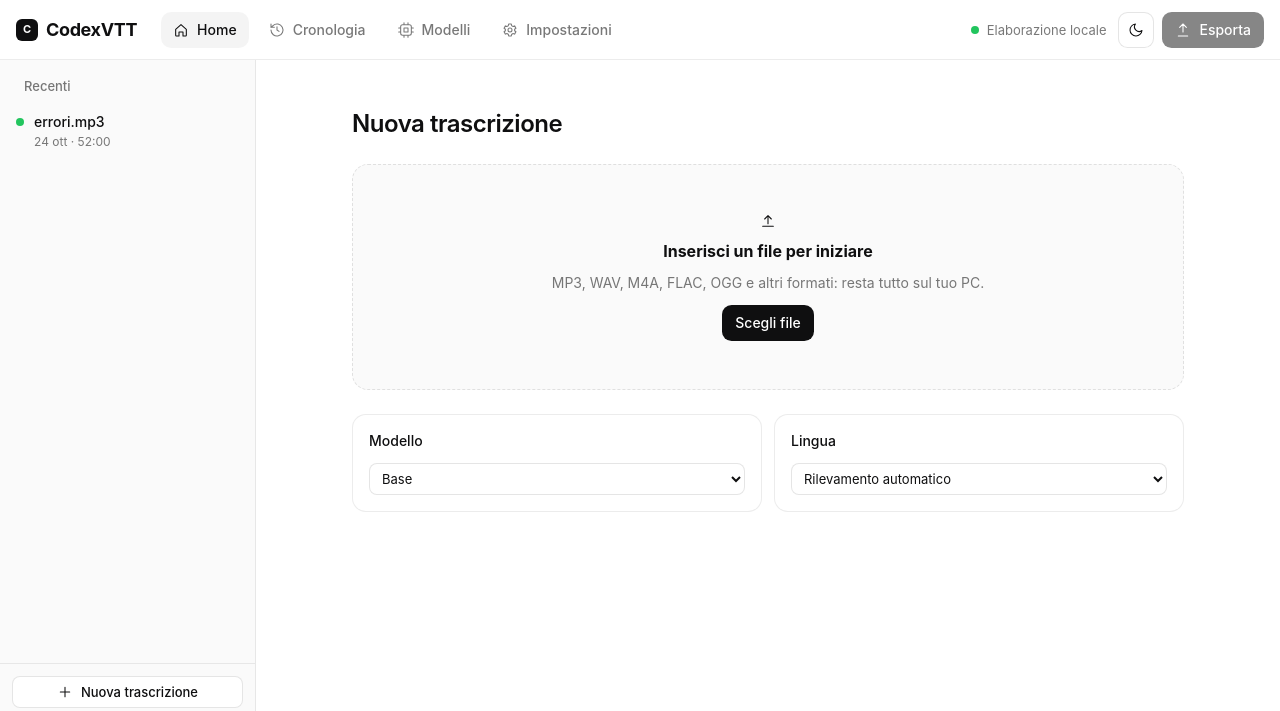
Editor a due pannelli › «Punteggiatura e frasi» riorganizza i segmenti in blocchi più lunghi e si annulla
This screenshot has width=1280, height=711.
Click the button "errori.mp3 24 ott · 52:00".
click(128, 132)  # box [8, 104, 247, 160]
(page scrolled)
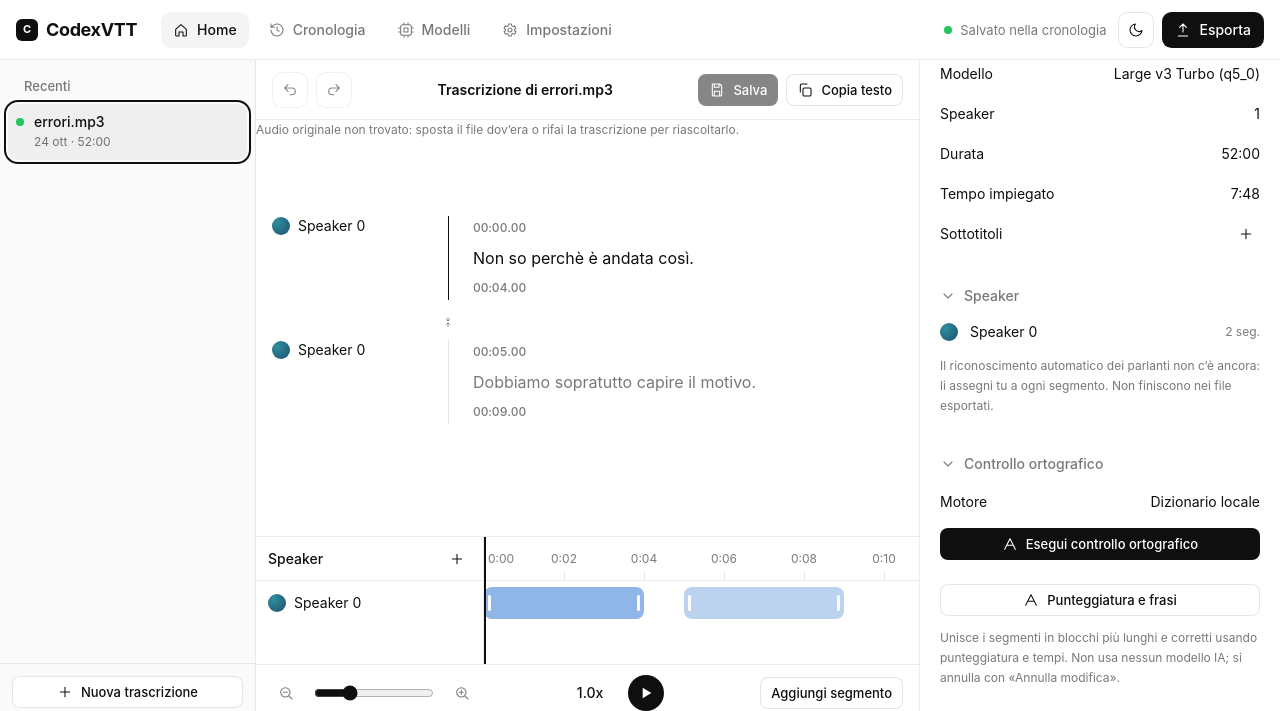
Expected: the heading "Trascrizione di errori.mp3" is shown, [438, 80, 613, 100]
Expected: the number of fields named "Testo del segmento" is 2, [473, 248, 694, 268]; [473, 372, 756, 392]
Click the button "Punteggiatura e frasi".
click(1100, 600)  # box [940, 584, 1260, 616]
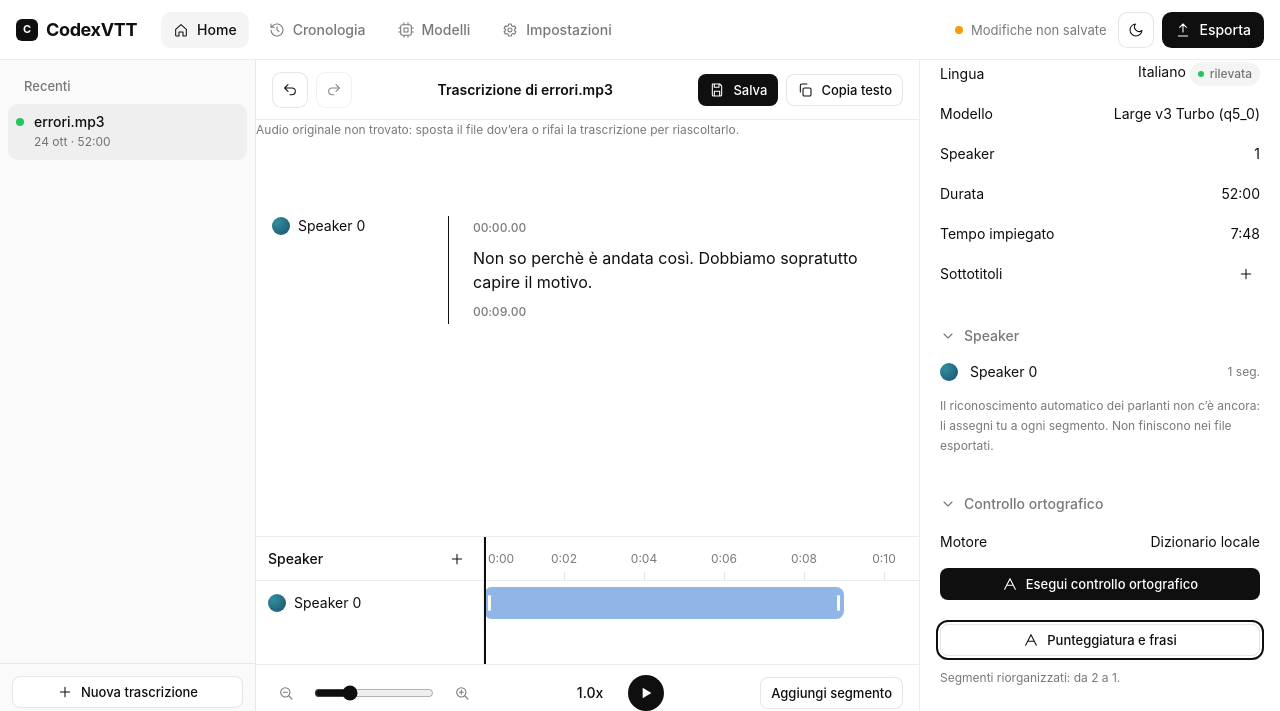
Expected: the number of fields named "Testo del segmento" is 1, [473, 246, 903, 294]
Expected: the field named "Testo del segmento" reads "Non so perchè è andata così. Dobbiamo sopratutto capire il motivo.", [473, 246, 903, 294]
Expected: the text "Segmenti riorganizzati: da 2 a 1." is shown, [940, 670, 1120, 685]
Click the button named "Annulla modifica".
click(290, 90)  # box [272, 72, 308, 108]
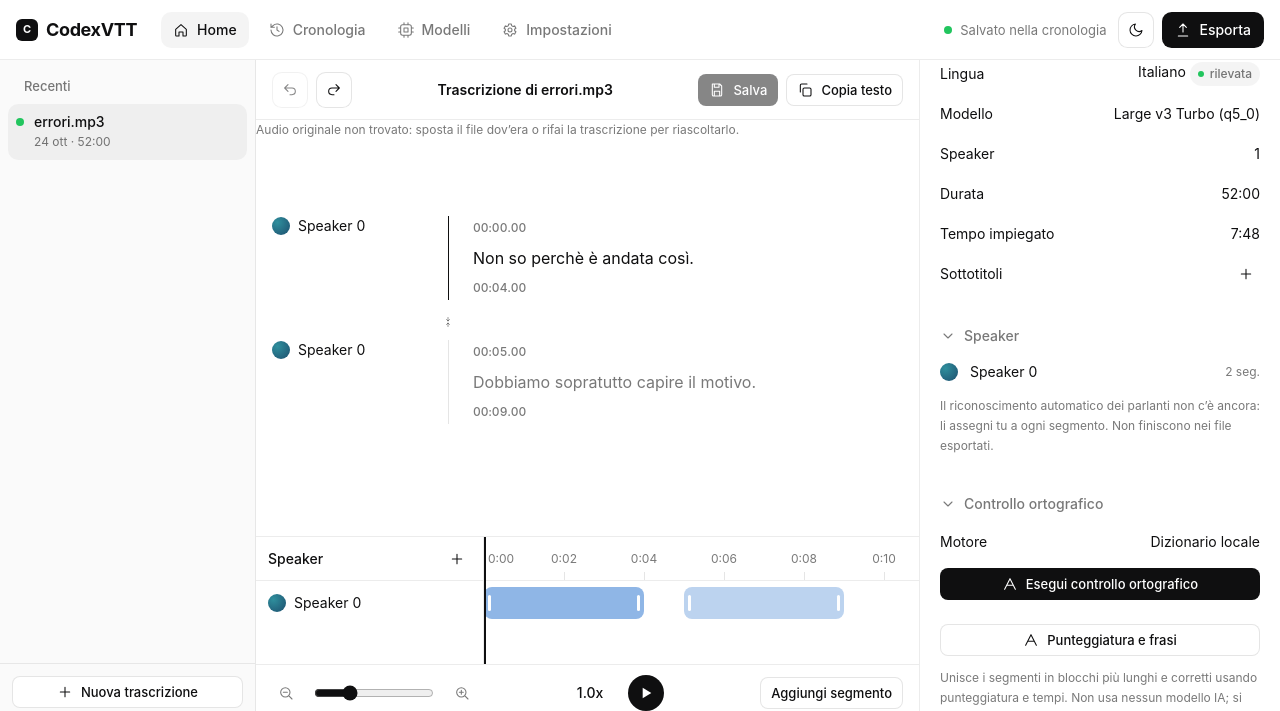
Expected: the text "Salvato nella cronologia" is shown, [960, 20, 1106, 40]
Expected: the number of fields named "Testo del segmento" is 2, [473, 248, 694, 268]; [473, 372, 756, 392]
